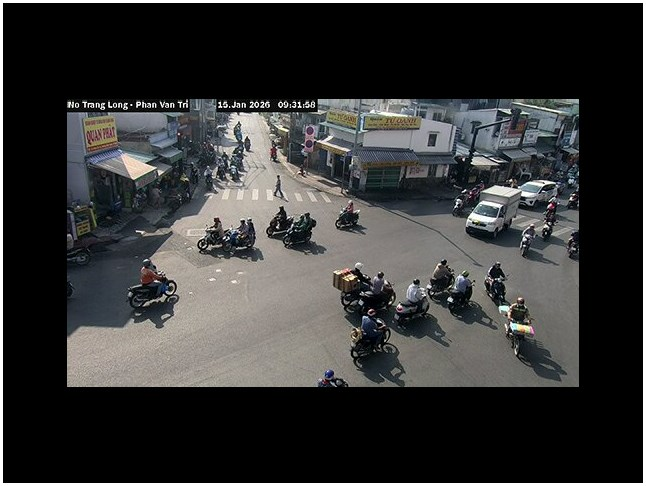car: (464, 184, 522, 239), (518, 179, 562, 210)
motorbike: (394, 282, 433, 327), (127, 276, 178, 309), (451, 181, 488, 217)
